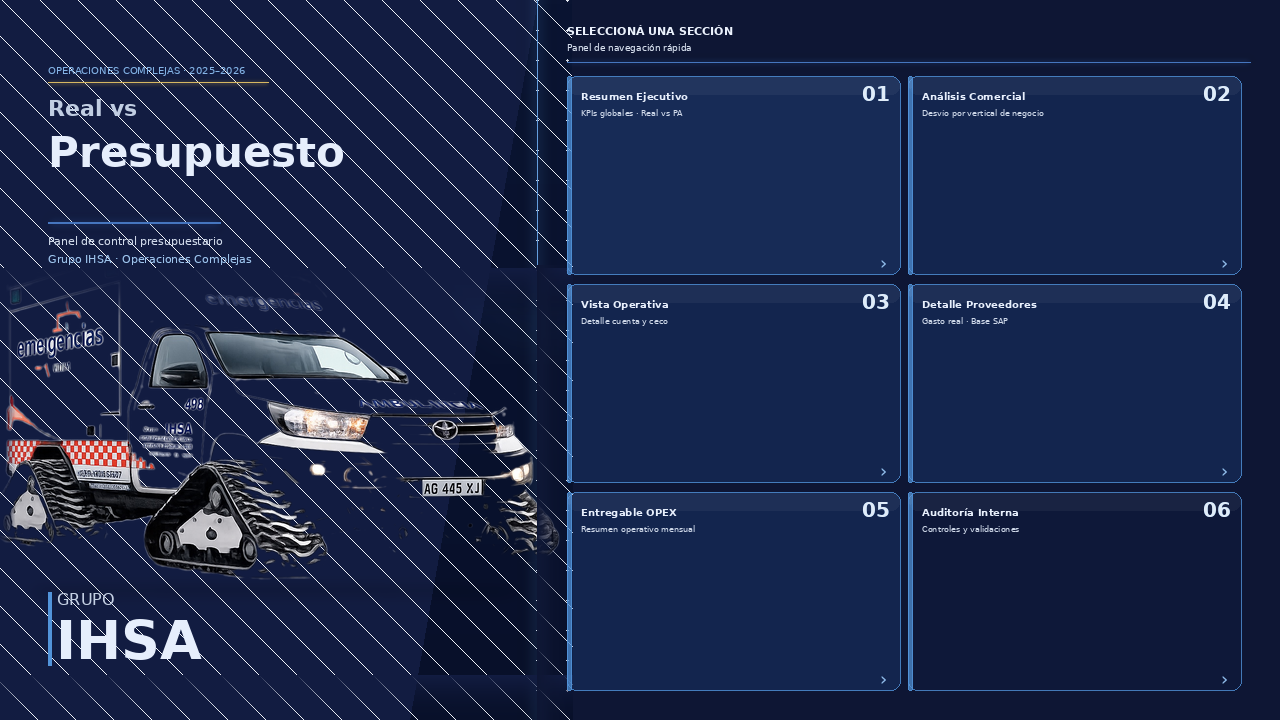

What the dashboard file says about the page in this screenshot:
{"tool":"powerbi","page":{"name":"0. Índice","canvas":[1280,720],"ordinal":0},"visuals":[{"type":"pageNavigator","box":[544,64,736,640],"z":0},{"type":"image","box":[0,240,496,480],"z":1000}]}

Visuals, with their boxes in screenshot pixels (x1, y1, x2, y2), scaled from the page's 1280x720 canvas onto the 1280x720 screenshot:
pageNavigator: <region>544, 64, 1279, 704</region>
image: <region>0, 240, 496, 719</region>
